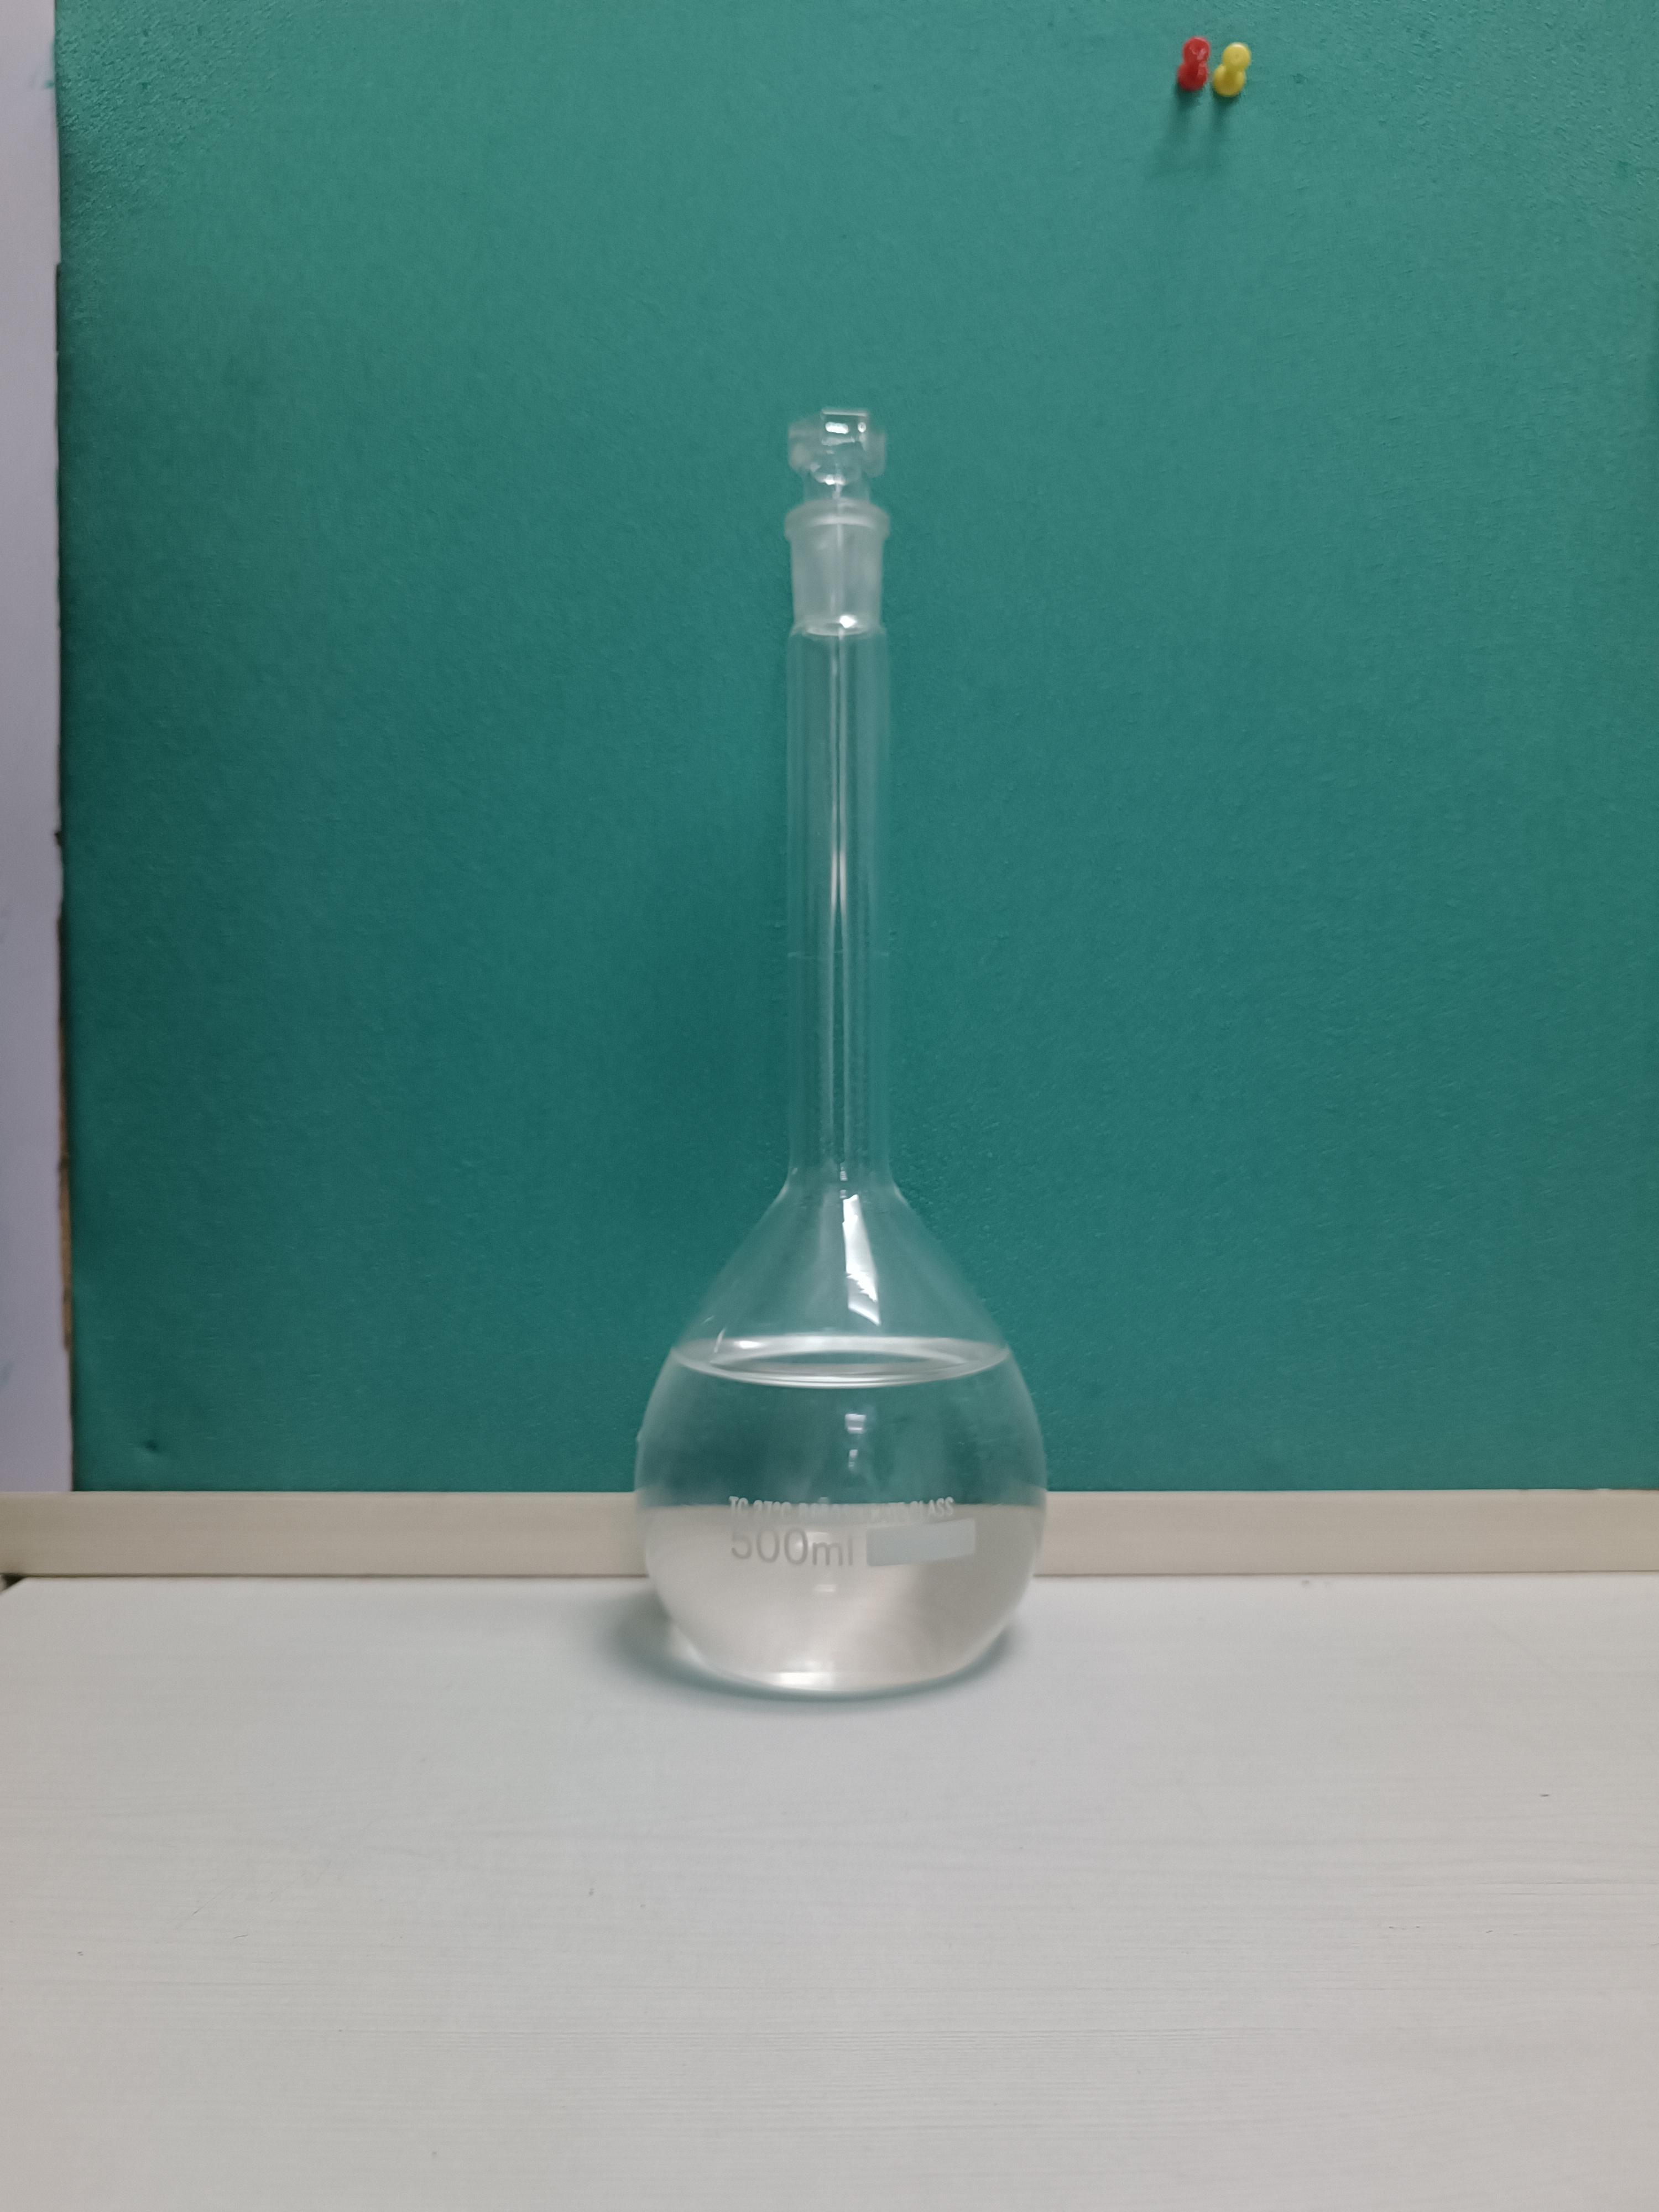Volumetric flask: (568, 366, 1101, 1707)
